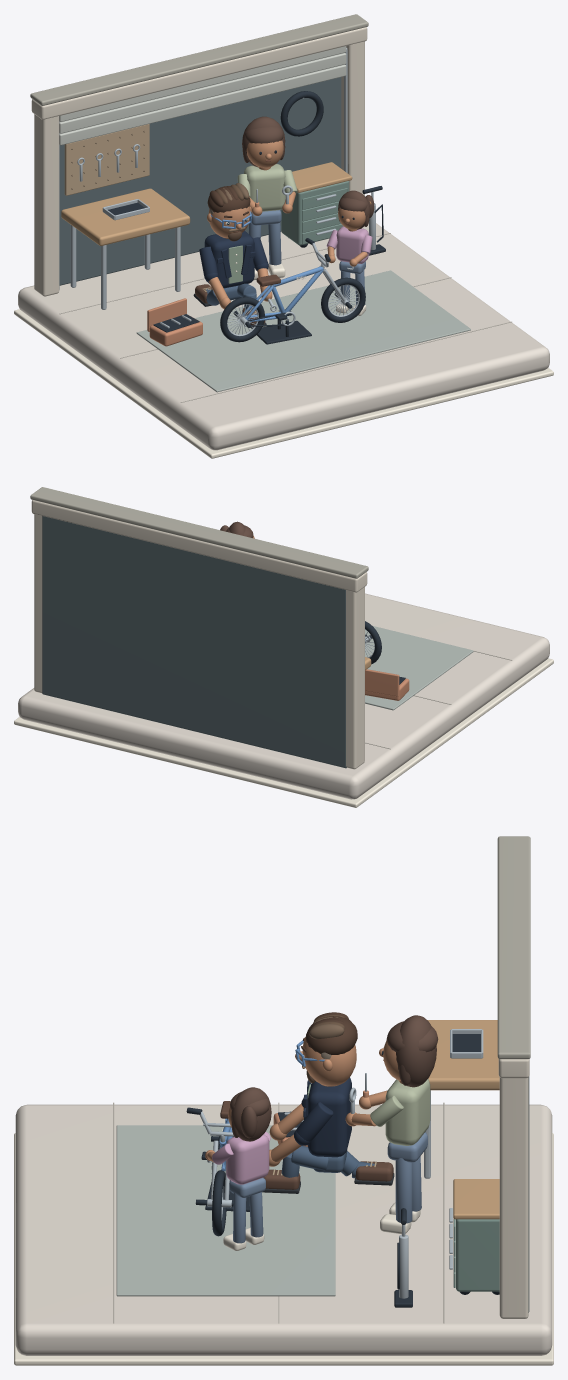
The model's file is family.glb.
The picture shows the model from 3 angles, top to bottom: view 1: azimuth 30°, elevation 25°; view 2: azimuth 150°, elevation 25°; view 3: azimuth 270°, elevation 25°; orthographic projection. The views are drawn at different scales.
Parts seen in each view (by area): view 1: Square floating plinth.005, Garage interior, Bicycle repair mat, Garage top trim, Garage lintel, Garage pier, Ivory lower edge.005, Pegboard panel.001, Oak desktop.004, Raised garage slat, Raised garage slat.001, Garage pier.001 (+15 smaller); view 2: Garage interior, Square floating plinth.005, Garage top trim, Garage lintel, Ivory lower edge.005, Bicycle repair mat, Garage pier, Garage pier.001, Toolbox lid; view 3: Square floating plinth.005, Bicycle repair mat, Garage top trim, Garage pier.001, Ivory lower edge.005, Oak desktop.004, Cabinet body.001, Jacket body.005, Soft sweater.001, Worktop.001, Hair back.001, Soft sweater (+9 smaller).
Part boxes in pixels (x1,y1,x2,y2): Square floating plinth.005: [18, 223, 549, 450]; Garage interior: [59, 77, 341, 285]; Bicycle repair mat: [136, 270, 470, 392]; Garage top trim: [30, 14, 368, 105]; Garage lintel: [31, 27, 367, 119]; Garage pier: [34, 114, 59, 296]; Ivory lower edge.005: [14, 309, 553, 458]; Pegboard panel.001: [64, 124, 149, 195]; Oak desktop.004: [61, 188, 190, 245]; Raised garage slat: [59, 64, 346, 145]; Raised garage slat.001: [59, 53, 346, 133]; Garage pier.001: [341, 41, 364, 195]; Garage interior: [42, 516, 346, 768]; Square floating plinth.005: [18, 593, 549, 799]; Garage top trim: [30, 487, 368, 578]; Garage lintel: [31, 500, 367, 592]; Ivory lower edge.005: [14, 658, 553, 807]; Bicycle repair mat: [365, 626, 473, 710]; Garage pier: [346, 587, 364, 769]; Garage pier.001: [34, 514, 42, 693]; Toolbox lid: [365, 669, 399, 696]; Square floating plinth.005: [15, 1104, 552, 1355]; Bicycle repair mat: [116, 1125, 335, 1296]; Garage top trim: [497, 836, 530, 1059]; Garage pier.001: [499, 1077, 528, 1318]; Ivory lower edge.005: [14, 1133, 553, 1365]; Oak desktop.004: [427, 1020, 499, 1090]; Cabinet body.001: [456, 1219, 499, 1291]; Jacket body.005: [307, 1077, 351, 1157]; Soft sweater.001: [385, 1079, 430, 1145]; Worktop.001: [453, 1179, 499, 1219]; Hair back.001: [396, 1015, 436, 1087]; Soft sweater: [226, 1134, 269, 1184].
Size of the model in its own units: 5.23 by 3.29 by 5.23.
